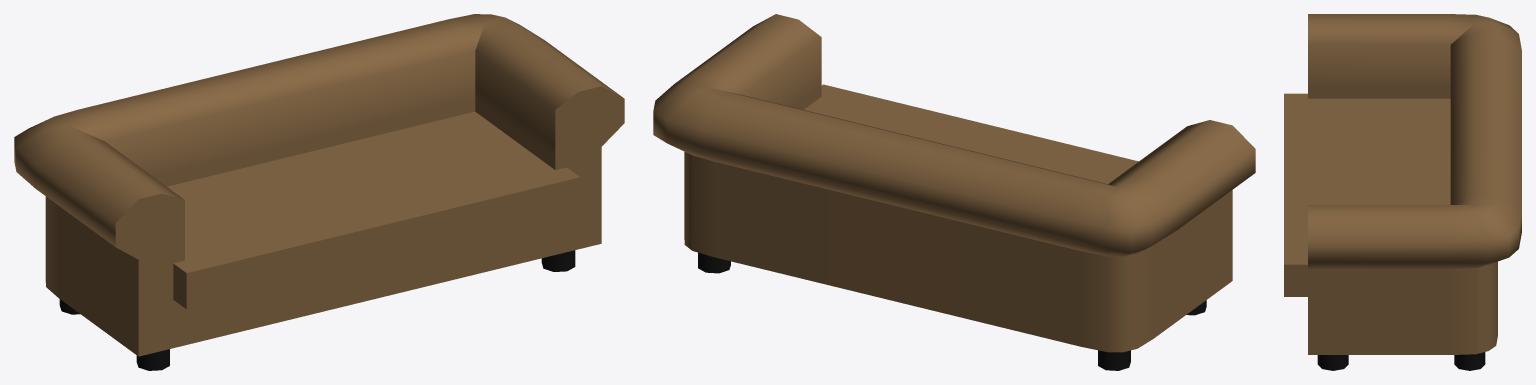
Rendered from G_Couch_Chesterfield.fbx.
3 views of the same model, side by side, from view 1: azimuth 30°, elevation 25°; view 2: azimuth 150°, elevation 25°; view 3: azimuth 270°, elevation 25° (orthographic). The views are drawn at different scales.
Visible parts, largest first — view 1: G_Couch_Chesterfield, Pillow_Right, Pillow_Left; view 2: G_Couch_Chesterfield, Pillow_Right, Pillow_Left; view 3: G_Couch_Chesterfield, Pillow_Left, Pillow_Right.
Part boxes in pixels (x1=…): G_Couch_Chesterfield: x1=14, y1=14, x2=624, y2=370; Pillow_Right: x1=290, y1=111, x2=580, y2=261; Pillow_Left: x1=167, y1=157, x2=383, y2=309; G_Couch_Chesterfield: x1=653, y1=14, x2=1255, y2=370; Pillow_Right: x1=804, y1=84, x2=1017, y2=154; Pillow_Left: x1=987, y1=132, x2=1138, y2=183; G_Couch_Chesterfield: x1=1308, y1=14, x2=1521, y2=370; Pillow_Left: x1=1284, y1=93, x2=1450, y2=178; Pillow_Right: x1=1284, y1=179, x2=1450, y2=296.
Size of the model in its own units: 220 by 75.18 by 100.
1 material, 1 textured.
